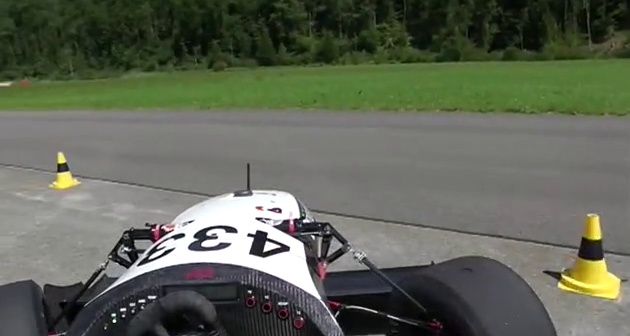Cone: (555, 211, 621, 302), (49, 148, 83, 192)
